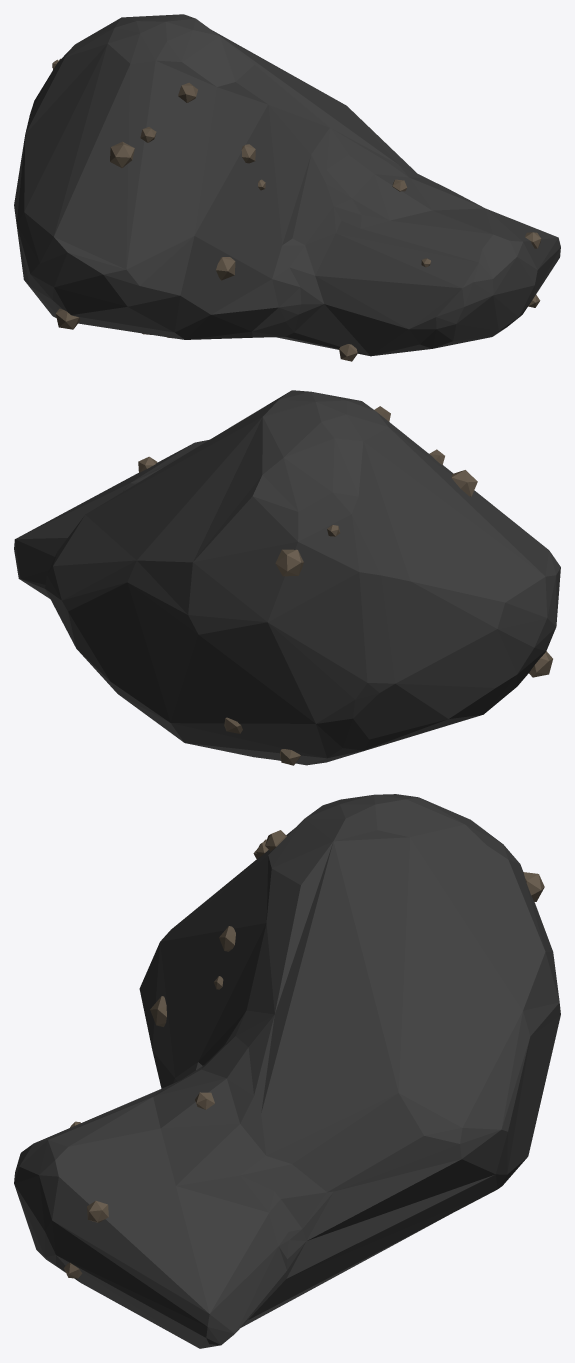
The model's file is Lowpoly_IronRock03.fbx.
3 renders of one model, top to bottom at view 1: azimuth 30°, elevation 25°; view 2: azimuth 150°, elevation 25°; view 3: azimuth 270°, elevation 25°, orthographic. The views are drawn at different scales.
Parts seen in each view (by area): view 1: IronRock03; view 2: IronRock03; view 3: IronRock03.
Boxes of the visible parts, x1,y1,x2,y2 form: IronRock03: [14, 14, 560, 361]; IronRock03: [14, 390, 560, 765]; IronRock03: [14, 794, 560, 1348].
Size of the model in its own units: 1077 by 650 by 828.
